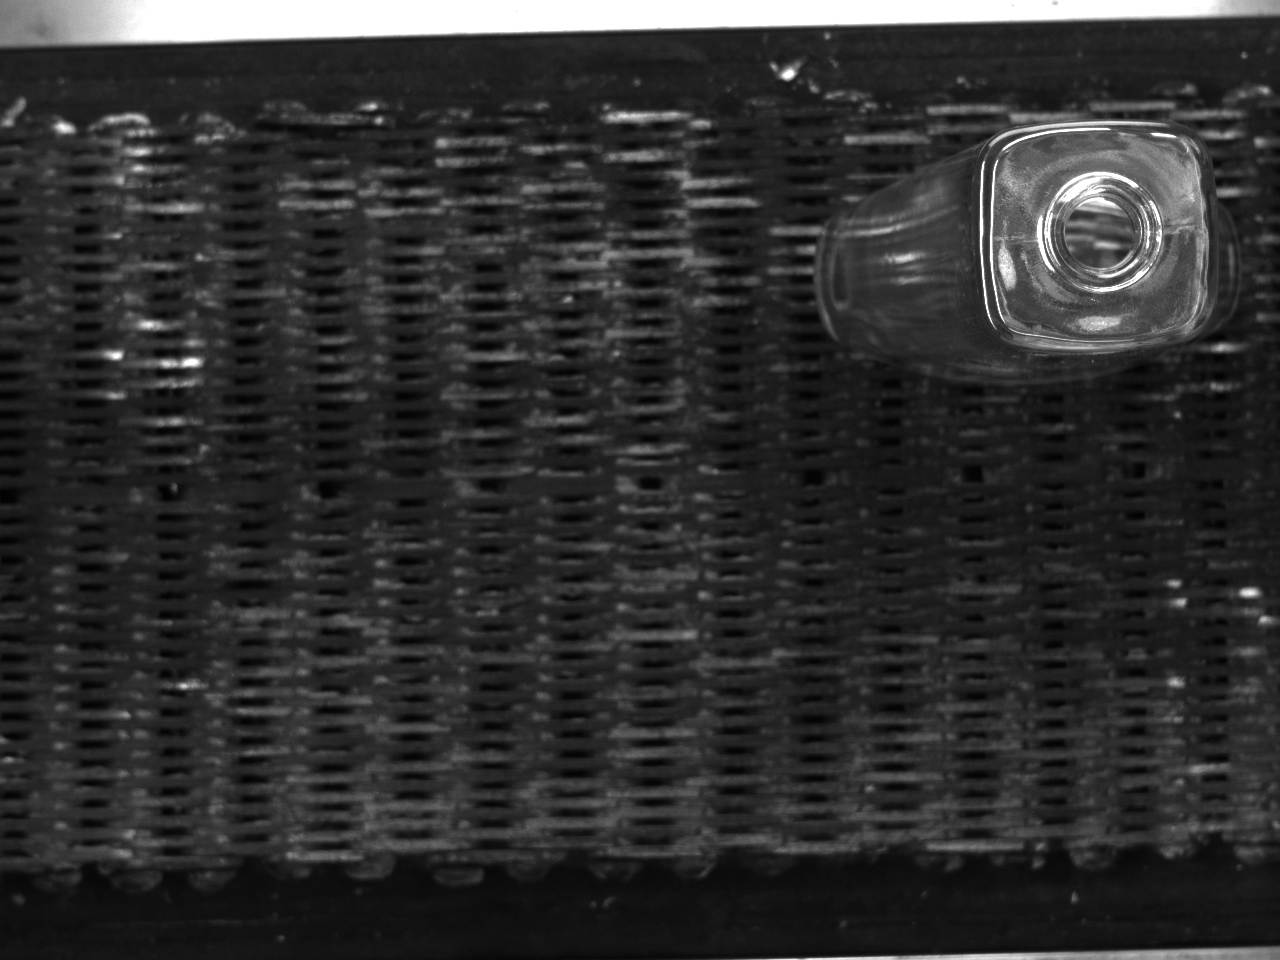bottleneck: (1047, 171, 1163, 292)
